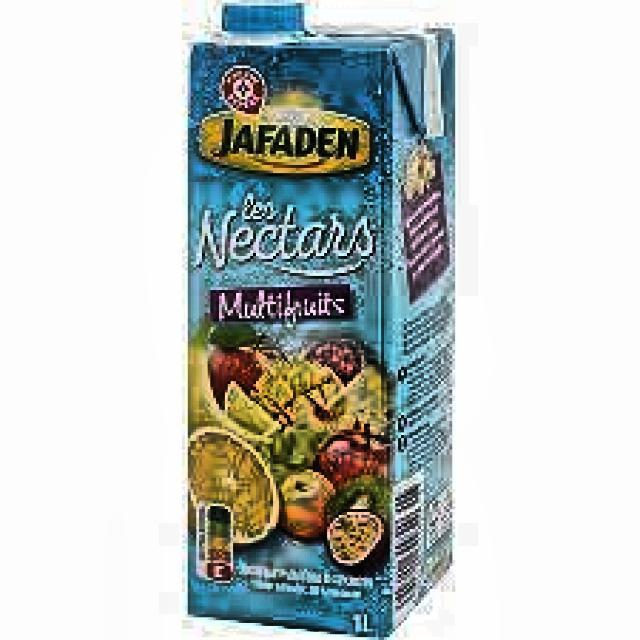cardboard: (182, 0, 455, 637)
